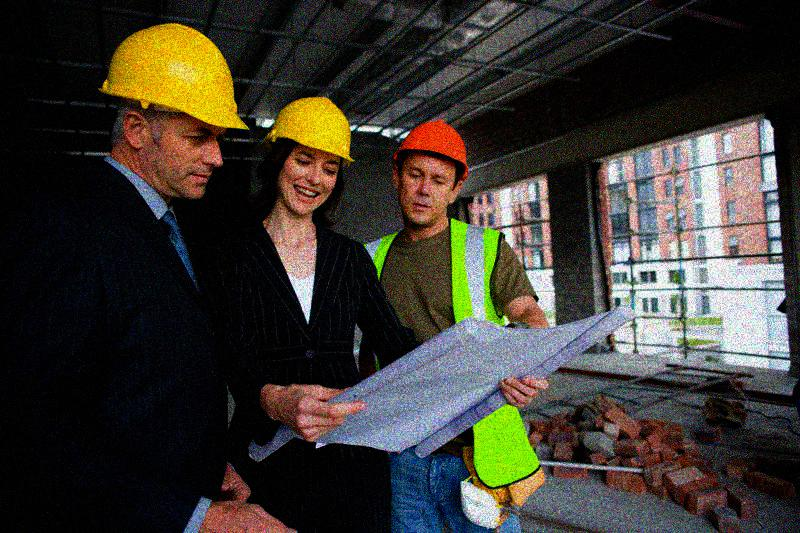helmet: (98, 20, 250, 204), (267, 96, 355, 217), (389, 118, 469, 228)
